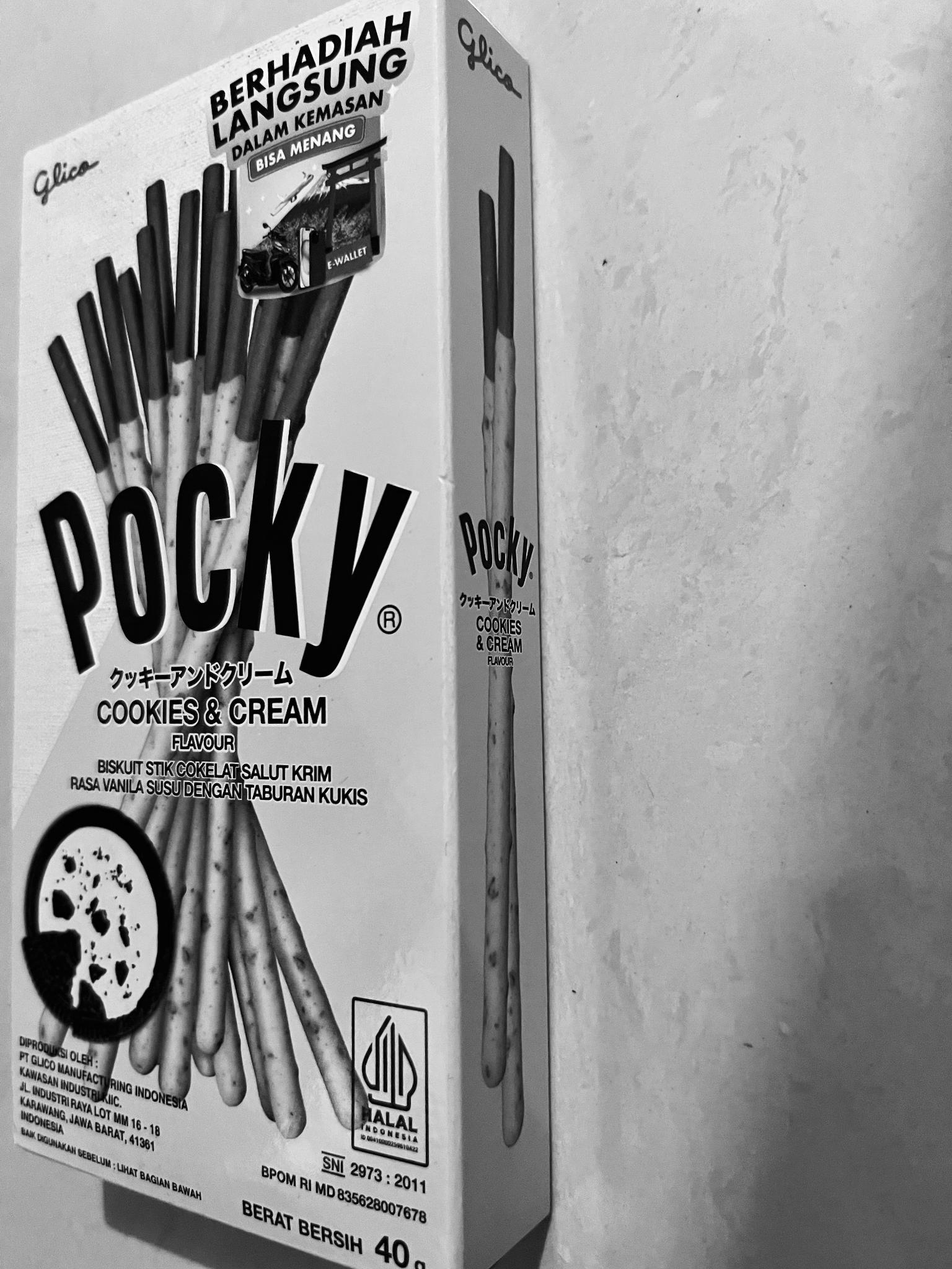Kertas: (16, 9, 554, 1269)
